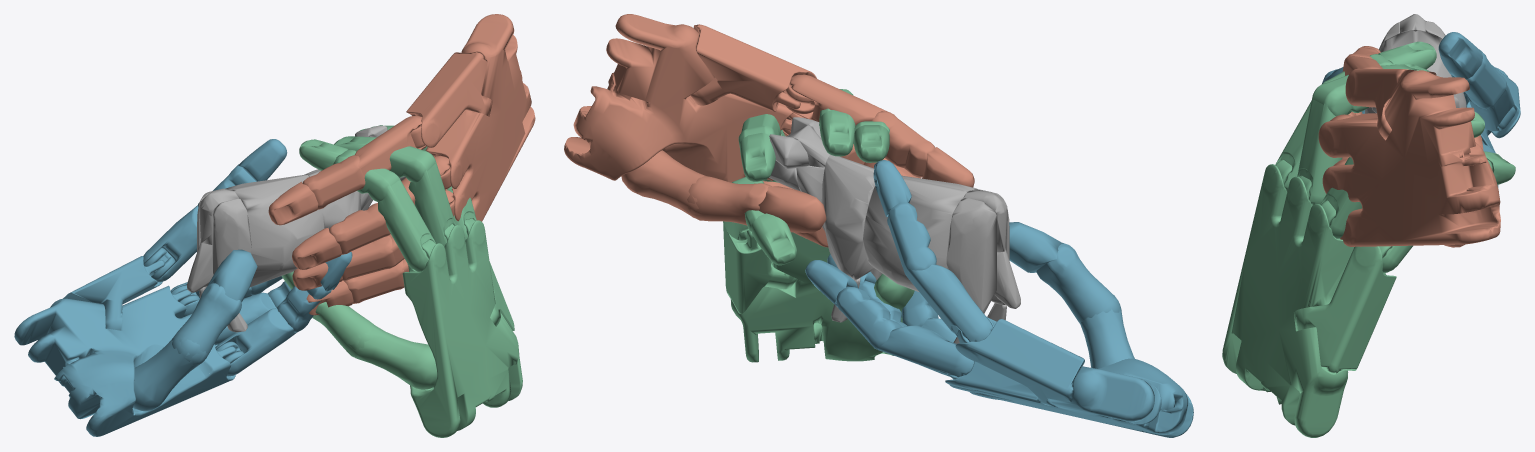
3 renders of one model, left to right at view 1: azimuth 30°, elevation 25°; view 2: azimuth 150°, elevation 25°; view 3: azimuth 270°, elevation 25°, orthographic. The views are drawn at different scales.
Size of the model in its own units: 0.3356 by 0.2051 by 0.1435.
